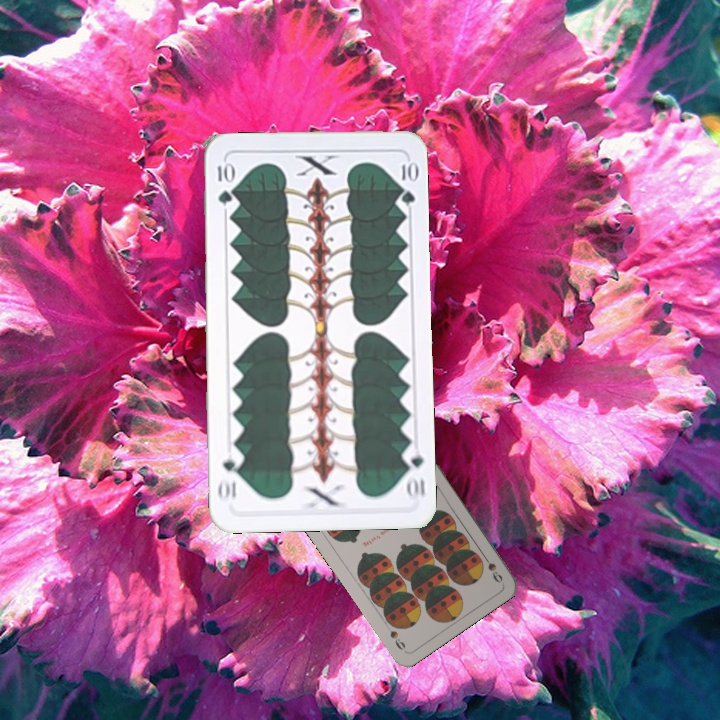G10: (400, 443, 428, 502), (213, 159, 234, 207)
S9: (478, 549, 505, 585)
